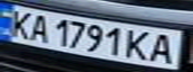1: (103, 25, 127, 57), (48, 16, 72, 47)
7: (66, 18, 87, 51)
9: (84, 21, 106, 54)
A: (148, 30, 181, 65), (24, 12, 54, 43)
K: (3, 7, 36, 39), (124, 27, 154, 61)
